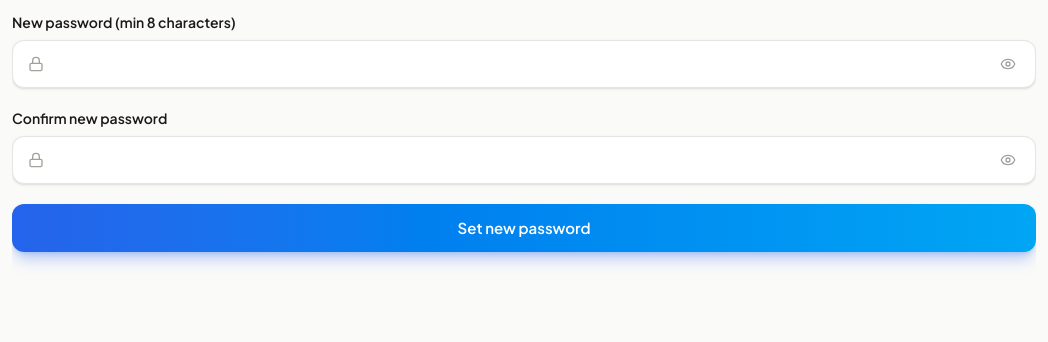
Test: ResetPasswordForm › shows a link to request a new one when the token expired (410)
Type "password1" into the password field labelled "New password (min 8 characters)" at (524,64), box [12,40,1036,88]
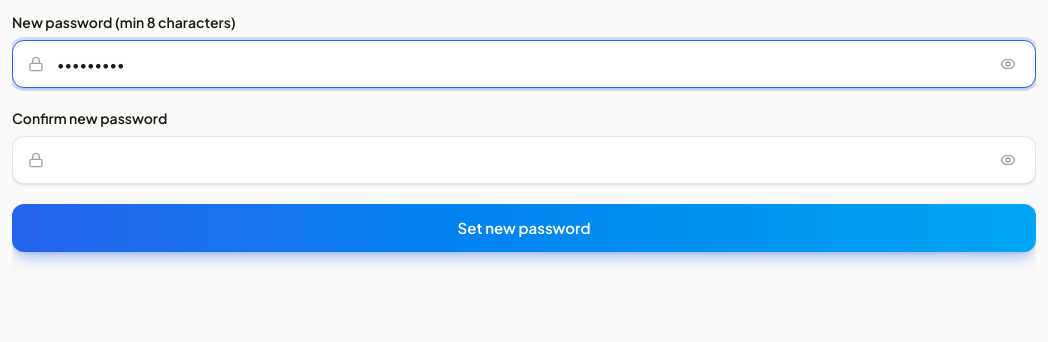
Type "password1" into the password field labelled "Confirm new password" at (524,160), box [12,136,1036,184]
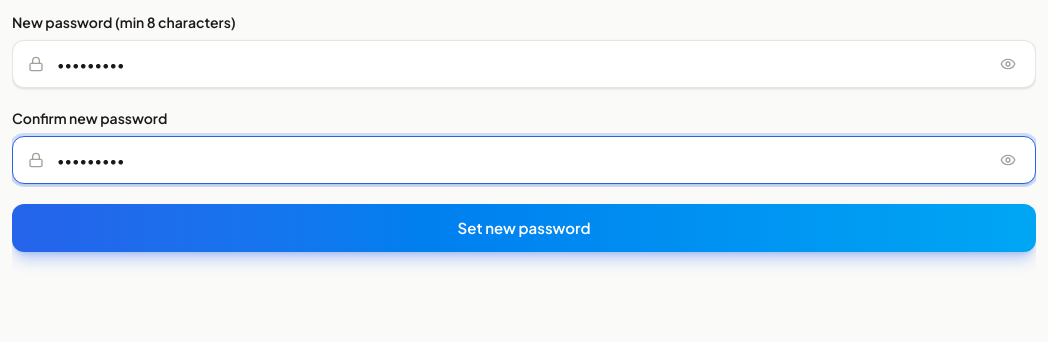
Click the button "Set new password" at (524,228), box [12,204,1036,252]
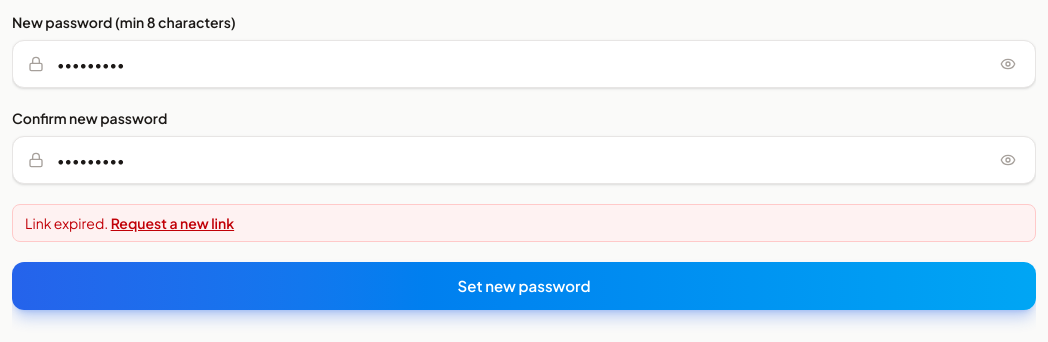
Expected: the message shows "Link expired.", [25,214,108,232]
